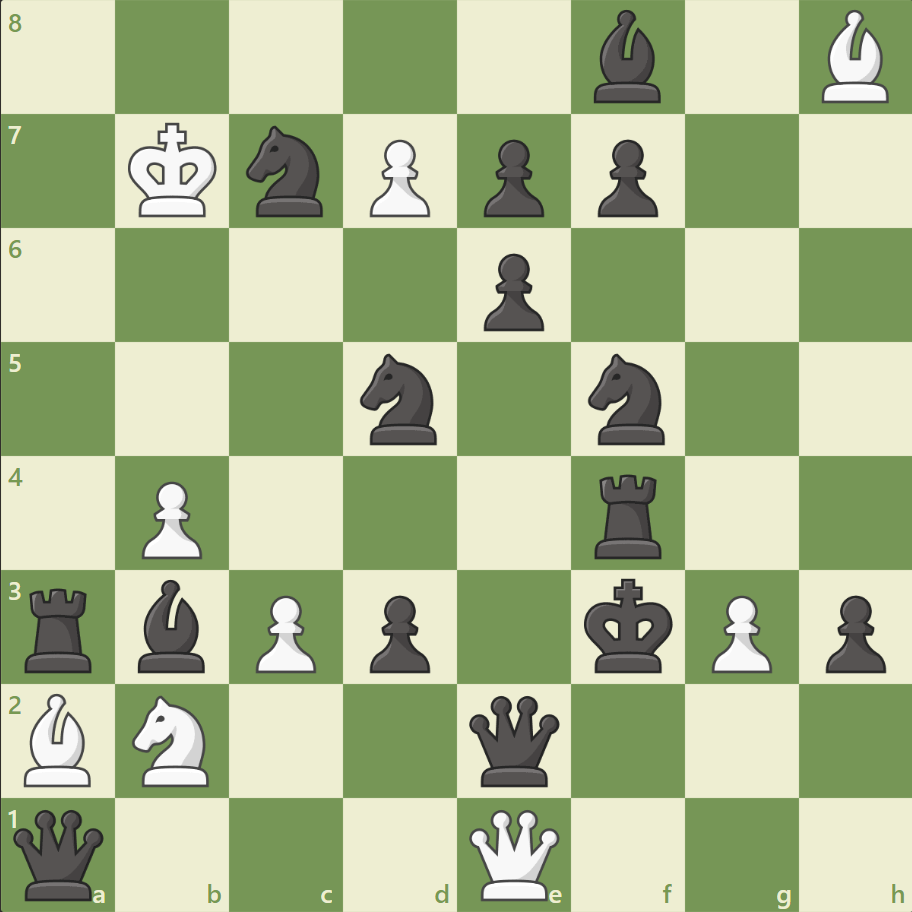B: (812, 6, 896, 109), (17, 687, 101, 790)
K: (124, 117, 224, 225)
N: (124, 688, 222, 791)
P: (133, 473, 208, 564), (247, 586, 322, 677), (701, 586, 776, 677), (361, 132, 435, 223)
Q: (464, 804, 563, 903)
b: (585, 6, 669, 109), (131, 574, 215, 676)
k: (579, 571, 679, 679)
n: (351, 348, 449, 450), (238, 121, 335, 223), (579, 348, 676, 450)
p: (474, 132, 549, 223), (474, 246, 549, 337), (588, 132, 662, 223), (361, 586, 435, 677), (815, 586, 889, 677)
q: (464, 690, 563, 789), (10, 804, 109, 903)
r: (587, 466, 670, 563), (19, 579, 102, 676)
